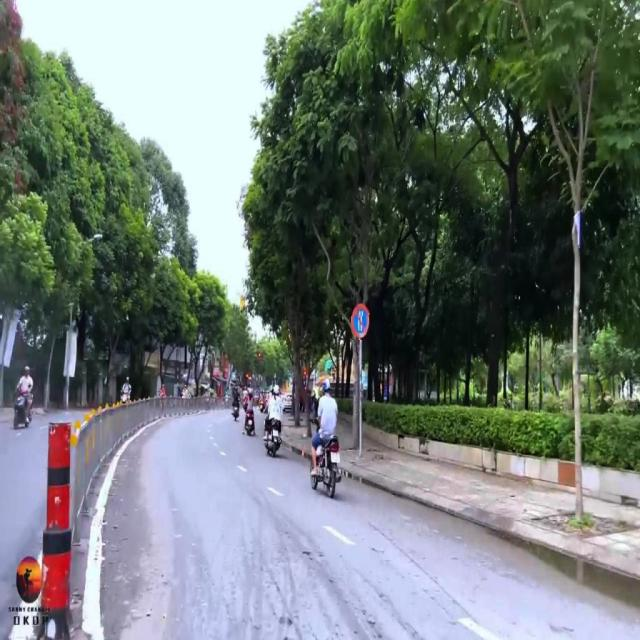cam_do_xe: (351, 302, 372, 340)
